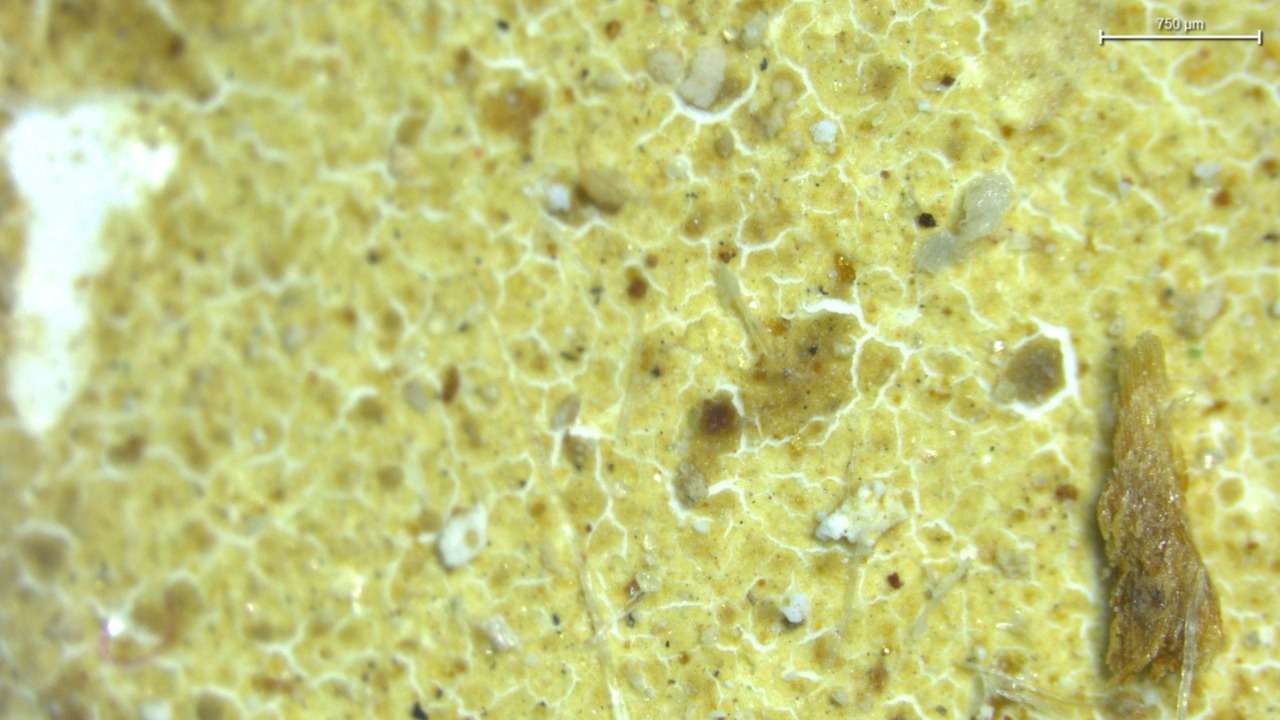microplastic_fragment: (815, 480, 906, 550), (959, 174, 1012, 240), (438, 505, 487, 569), (780, 591, 810, 624)
